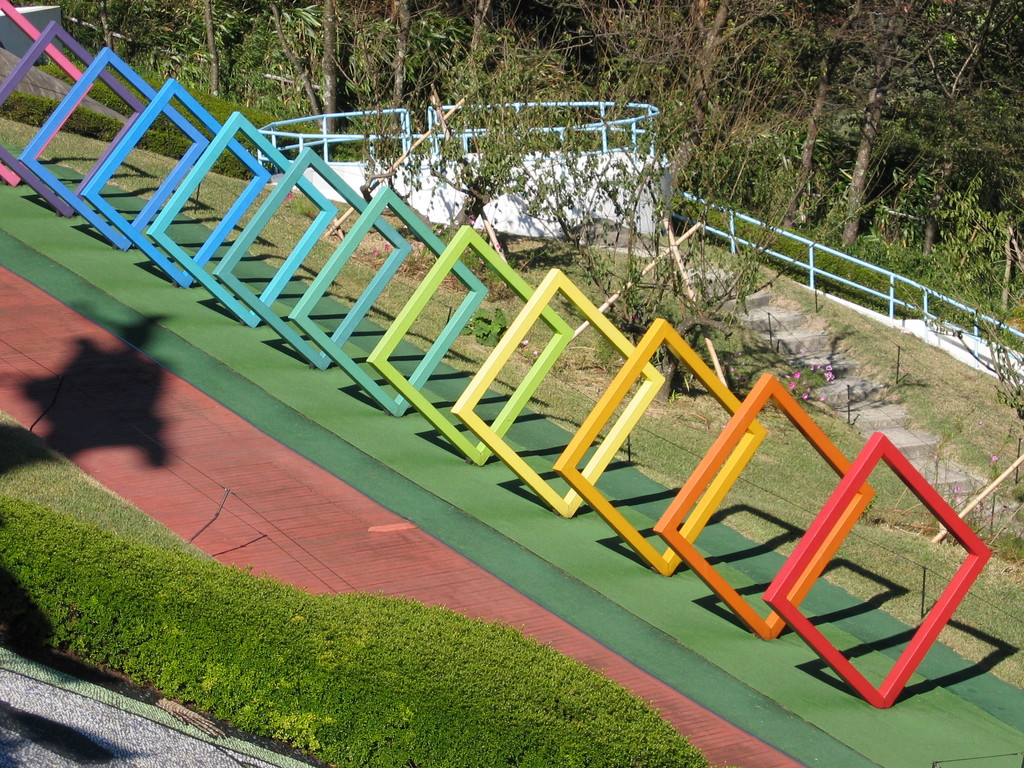Tree: (0, 0, 1024, 404)
